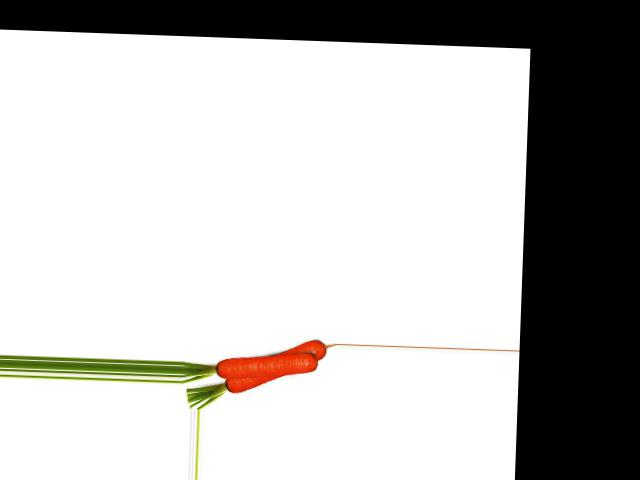carrot: (216, 338, 334, 396)
